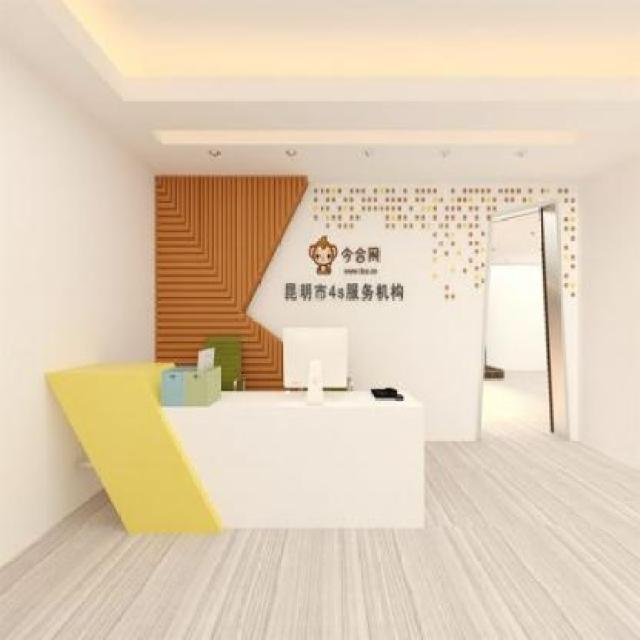frontdesk: (37, 348, 436, 539)
